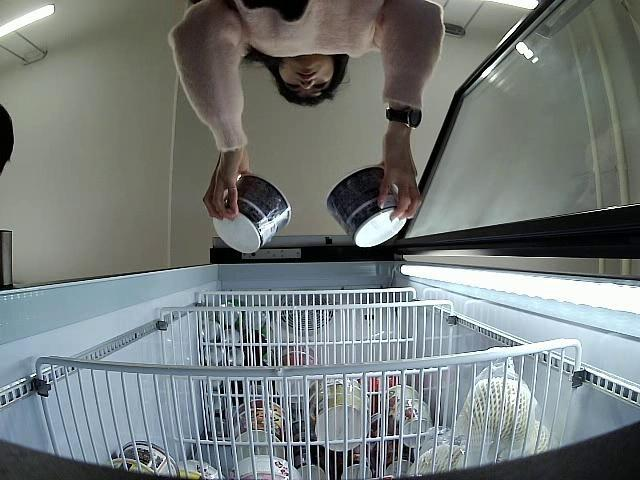07_buldak_L: (326, 163, 407, 246), (210, 173, 291, 254)
